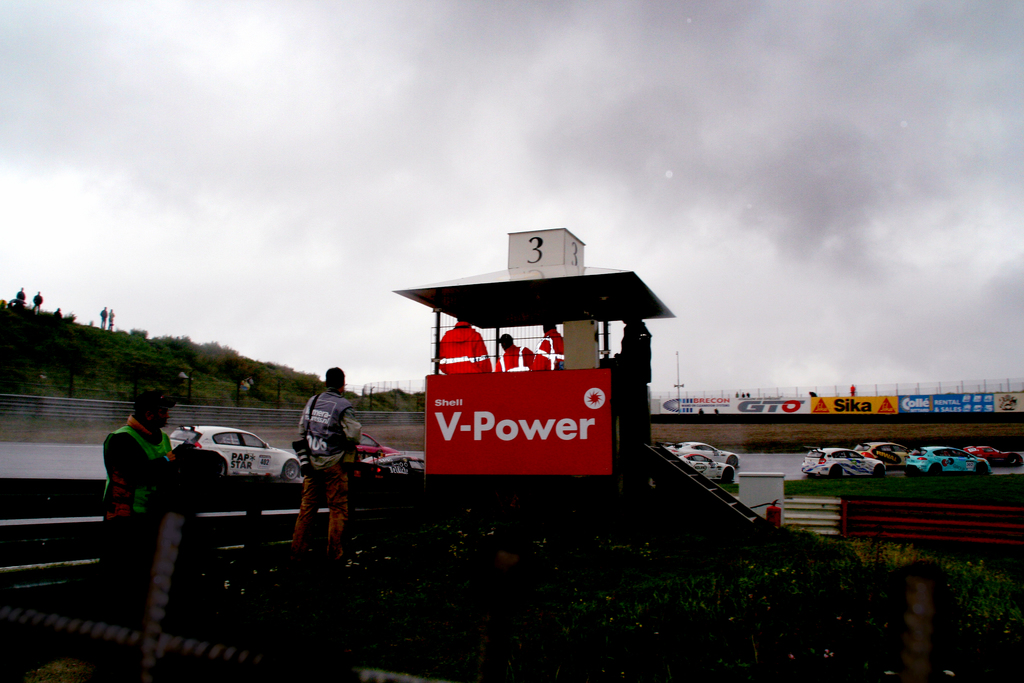Car: (660, 439, 1023, 480), (161, 418, 308, 492), (291, 434, 423, 480), (798, 440, 882, 480), (903, 440, 992, 476), (664, 435, 741, 467), (860, 438, 914, 472), (958, 440, 1019, 460), (355, 433, 396, 460)
